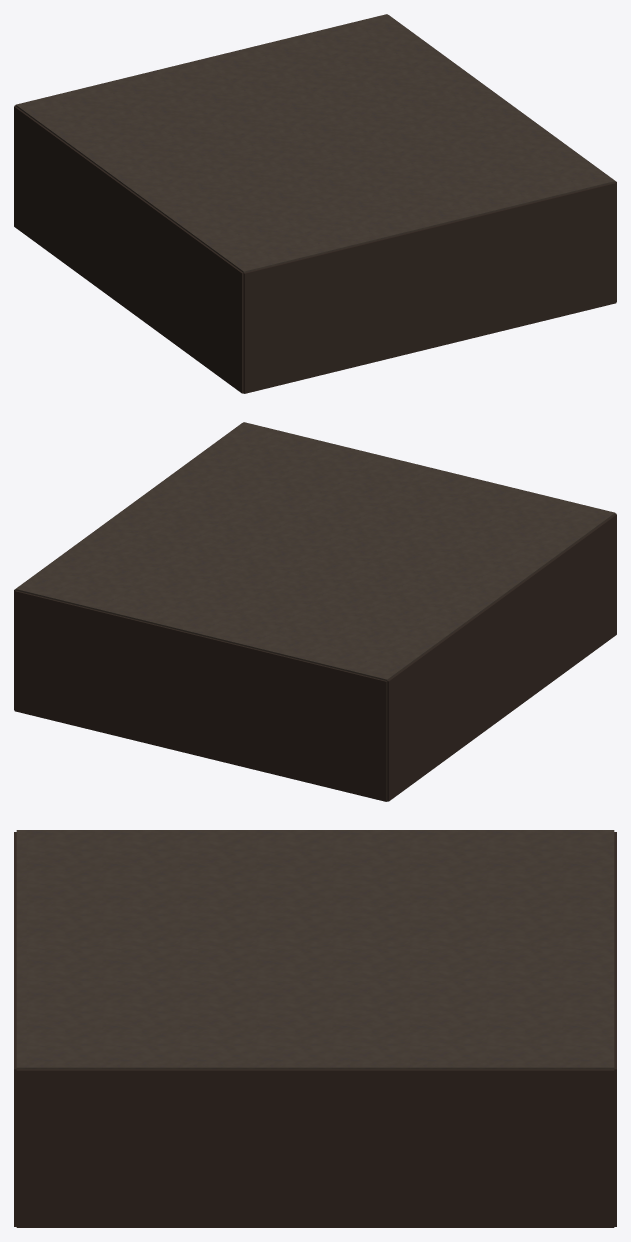
File: sala.glb
The picture shows the model from 3 angles, top to bottom: view 1: azimuth 30°, elevation 25°; view 2: azimuth 150°, elevation 25°; view 3: azimuth 270°, elevation 25°; orthographic projection. The views are drawn at different scales.
Parts seen in each view (by area): view 1: teto, parede_base.003, parede_base.001; view 2: teto, parede_base, parede_base.001; view 3: teto, parede_base.002, parede_base, parede_base.003.
Part boxes in pixels (bbox=[...]): teto: bbox=[15, 14, 615, 272]; parede_base.003: bbox=[243, 182, 616, 393]; parede_base.001: bbox=[14, 106, 243, 393]; teto: bbox=[15, 422, 615, 680]; parede_base: bbox=[14, 590, 387, 801]; parede_base.001: bbox=[387, 514, 616, 801]; teto: bbox=[16, 830, 614, 1069]; parede_base.002: bbox=[16, 1069, 614, 1227]; parede_base: bbox=[614, 832, 616, 1226]; parede_base.003: bbox=[14, 832, 16, 1226].
Size of the model in its own units: 11.1 by 3.46 by 11.8.
Materials: 8 (5 with a texture image).
